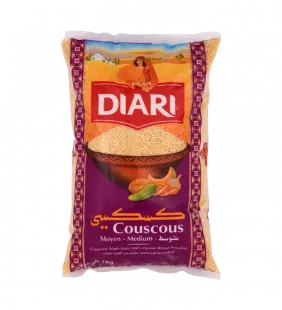DIARI: (52, 20, 229, 285)
